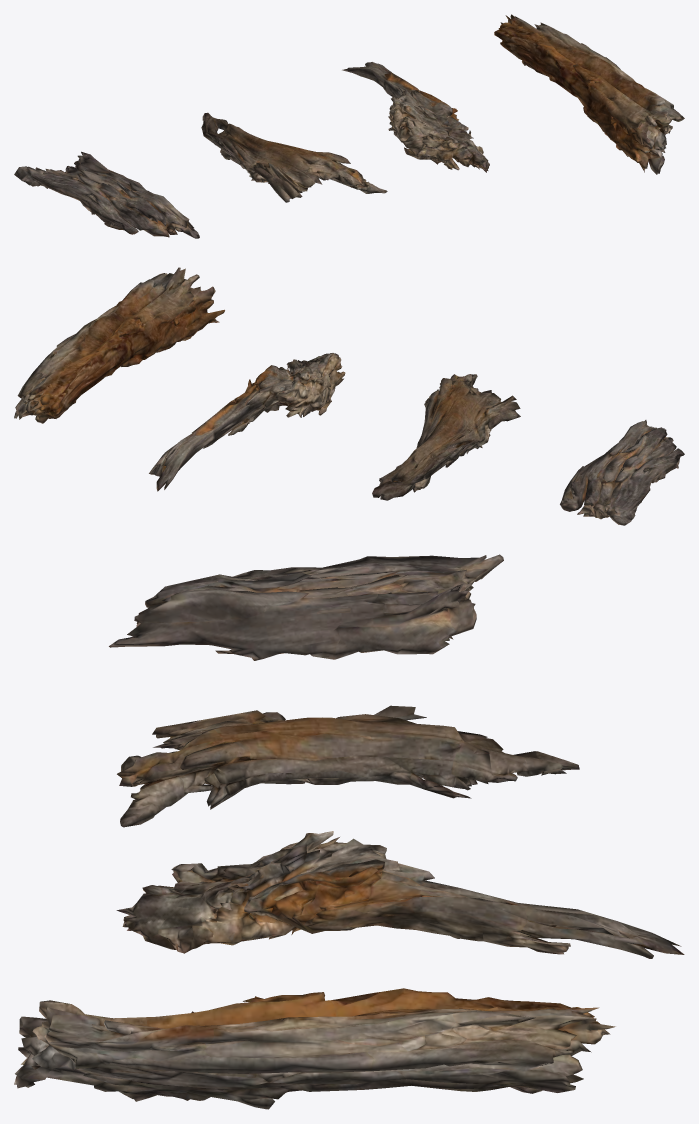
Rendered from bark_debris_01.glb.
The picture shows the model from 3 angles, top to bottom: view 1: azimuth 30°, elevation 25°; view 2: azimuth 150°, elevation 25°; view 3: azimuth 270°, elevation 25°; orthographic projection. The views are drawn at different scales.
Parts seen in each view (by area): view 1: bark_debris_01_a; view 2: bark_debris_01_a; view 3: bark_debris_01_a.
Boxes of the visible parts, box(x1,y1,x2,y2) form: bark_debris_01_a: box(14, 14, 684, 238); bark_debris_01_a: box(14, 267, 684, 525); bark_debris_01_a: box(14, 554, 684, 1109).
Size of the model in its own units: 1.21 by 0.1116 by 0.6735.
Materials: 1 (1 with a texture image).
